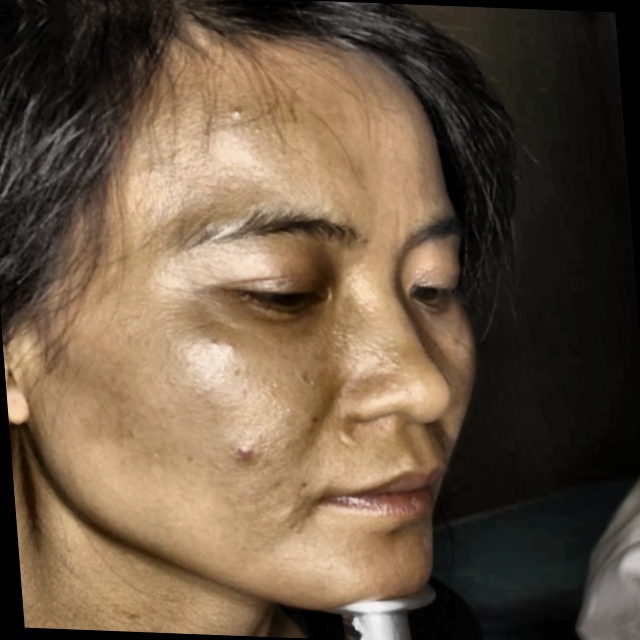comedone: (230, 434, 270, 477)
